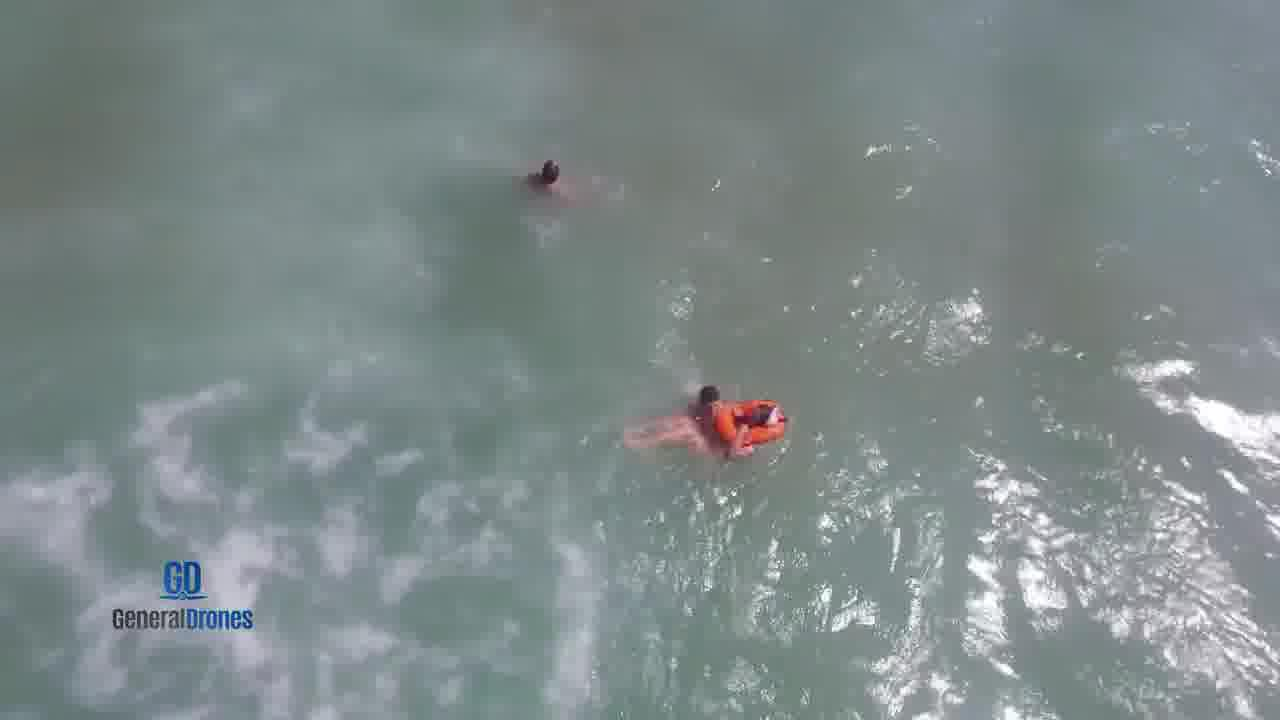swimmer: (627, 395, 794, 460), (504, 147, 571, 198), (672, 377, 746, 419)
